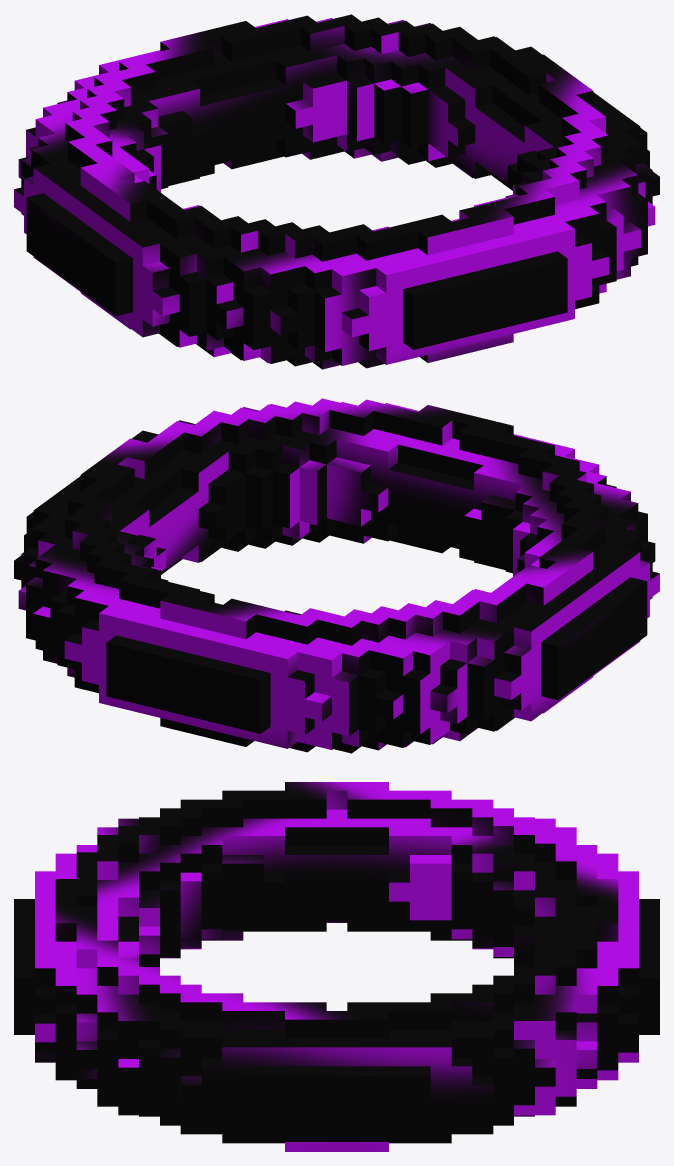
The picture shows the model from 3 angles, top to bottom: view 1: azimuth 30°, elevation 25°; view 2: azimuth 150°, elevation 25°; view 3: azimuth 270°, elevation 25°; orthographic projection. The views are drawn at different scales.
Visible parts, largest first — view 1: Torus; view 2: Torus; view 3: Torus.
Boxes of the visible parts, x1,y1,x2,y2 form: Torus: (14, 14, 659, 369); Torus: (14, 398, 659, 753); Torus: (14, 782, 659, 1151).
Size of the model in its own units: 2.45 by 0.5524 by 2.45.
Materials: 1 (1 with a texture image).
